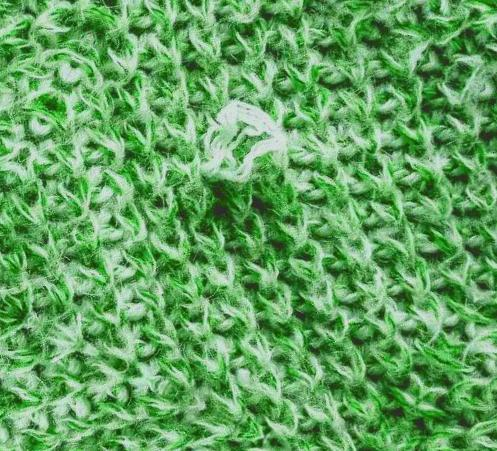snag: (198, 96, 286, 189)
